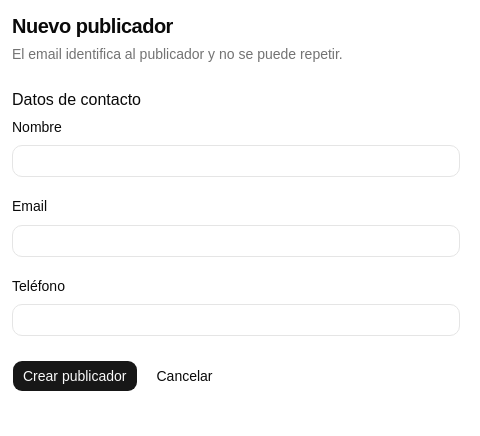
it: PublicadorNuevoPage › exige el nombre
In the field labelled "Email": (236, 240) [12,224,460,256], type "nuevo@cordoba.gob.ar"
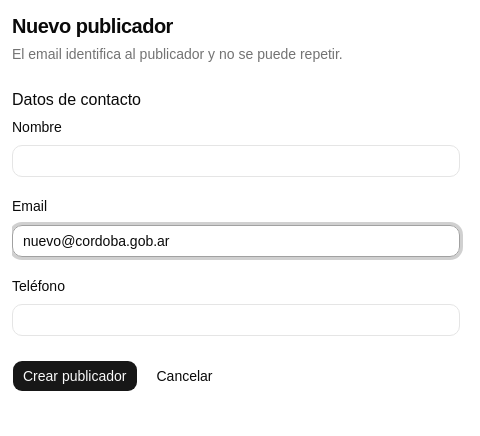
Click the button "Crear publicador": (75, 376) [12,360,138,392]
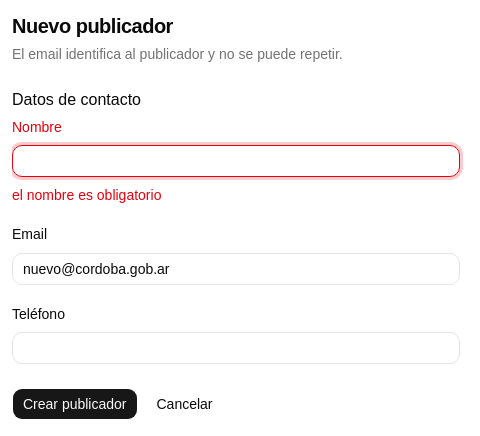
Now the text "el nombre es obligatorio" is shown, box [12,187,161,203]
